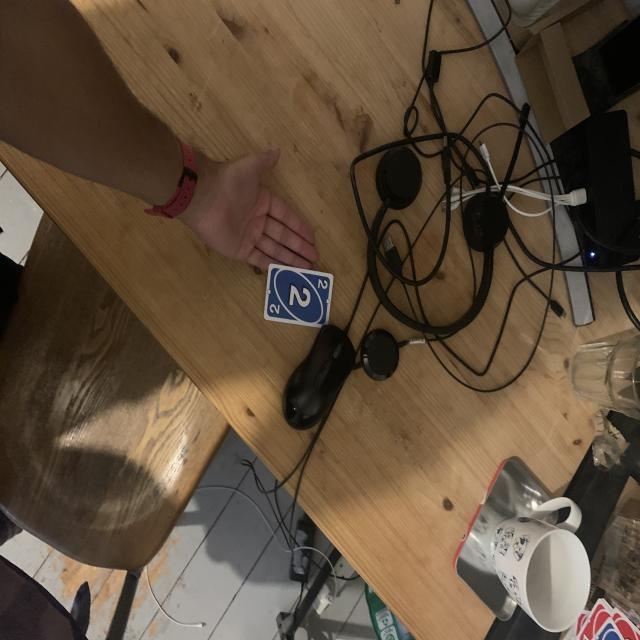lblue-2: (266, 302, 282, 318)
